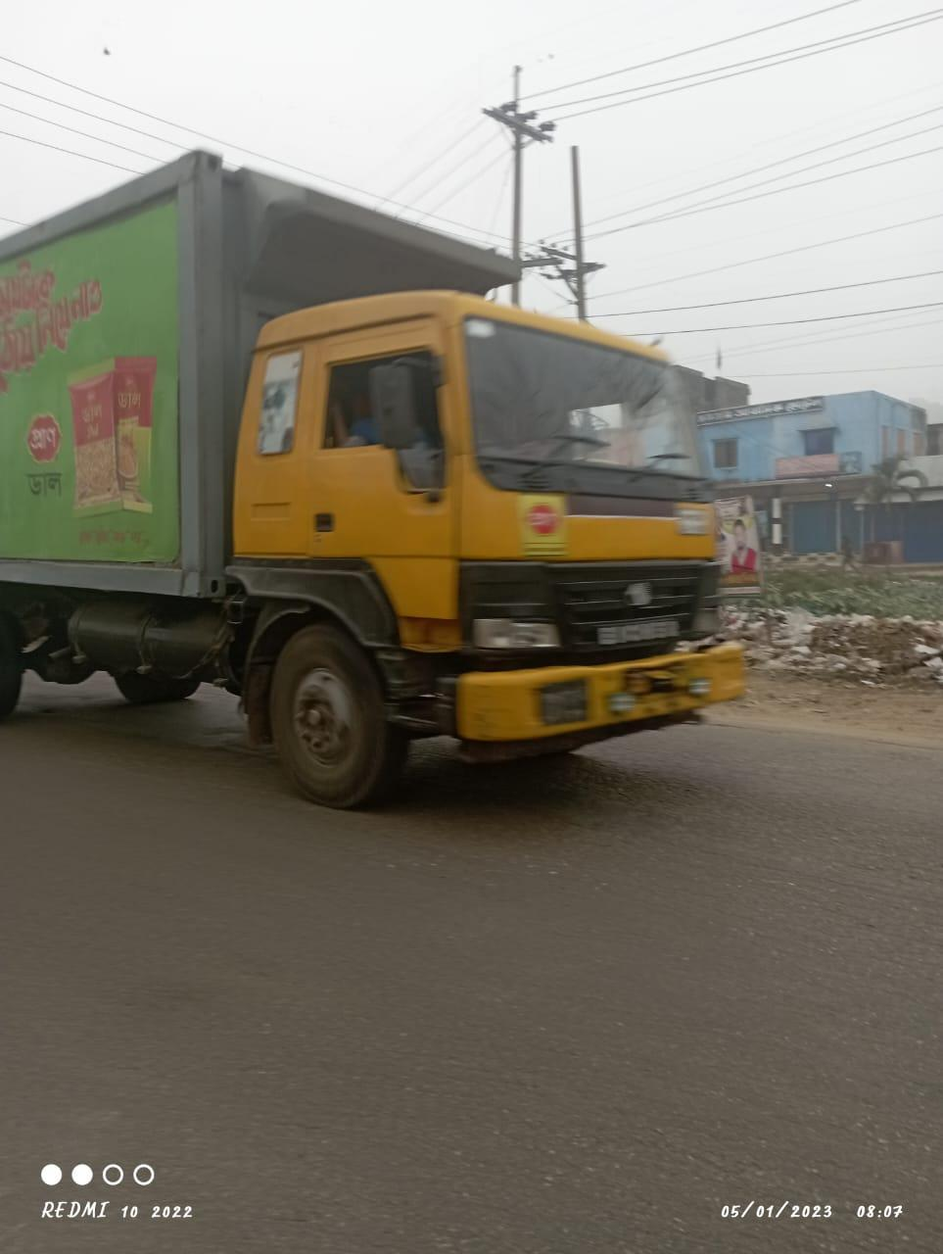Truck: (6, 134, 777, 814)
